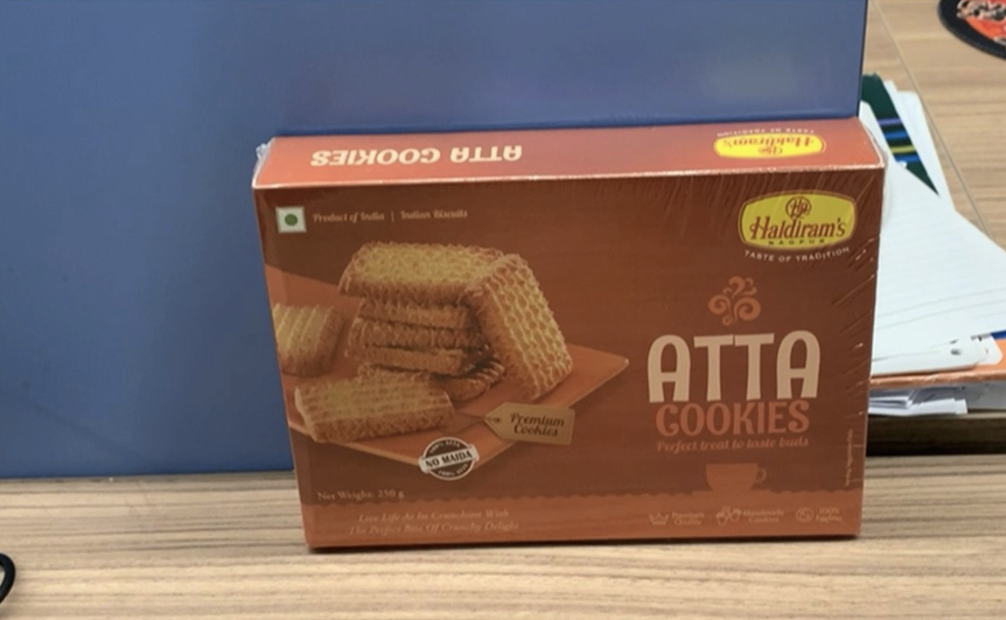cookies_150g: (313, 207, 871, 502)
